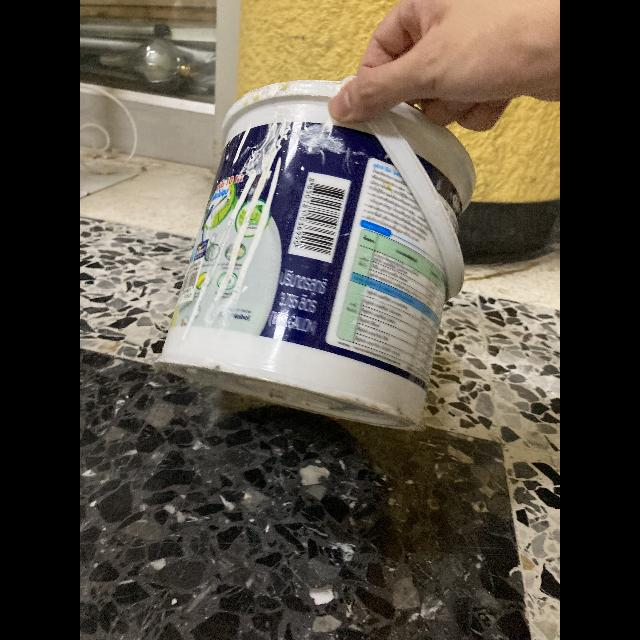paint_bucket: (166, 76, 476, 427)
